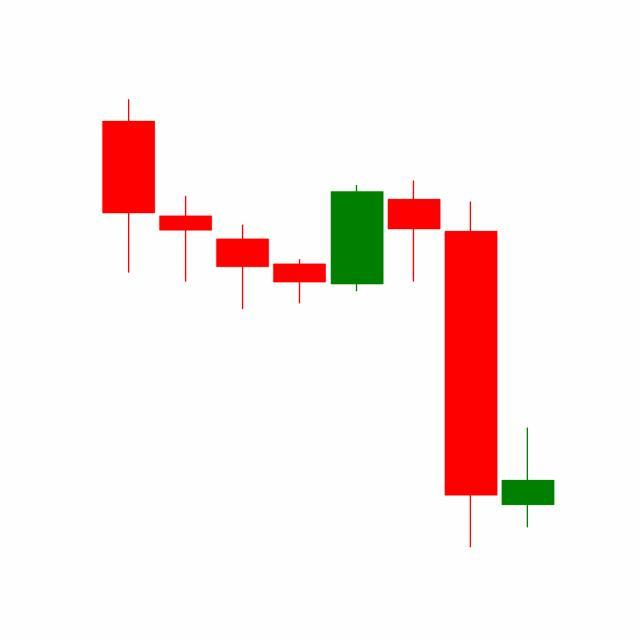Three Inside Up-Down: (328, 176, 500, 549)
